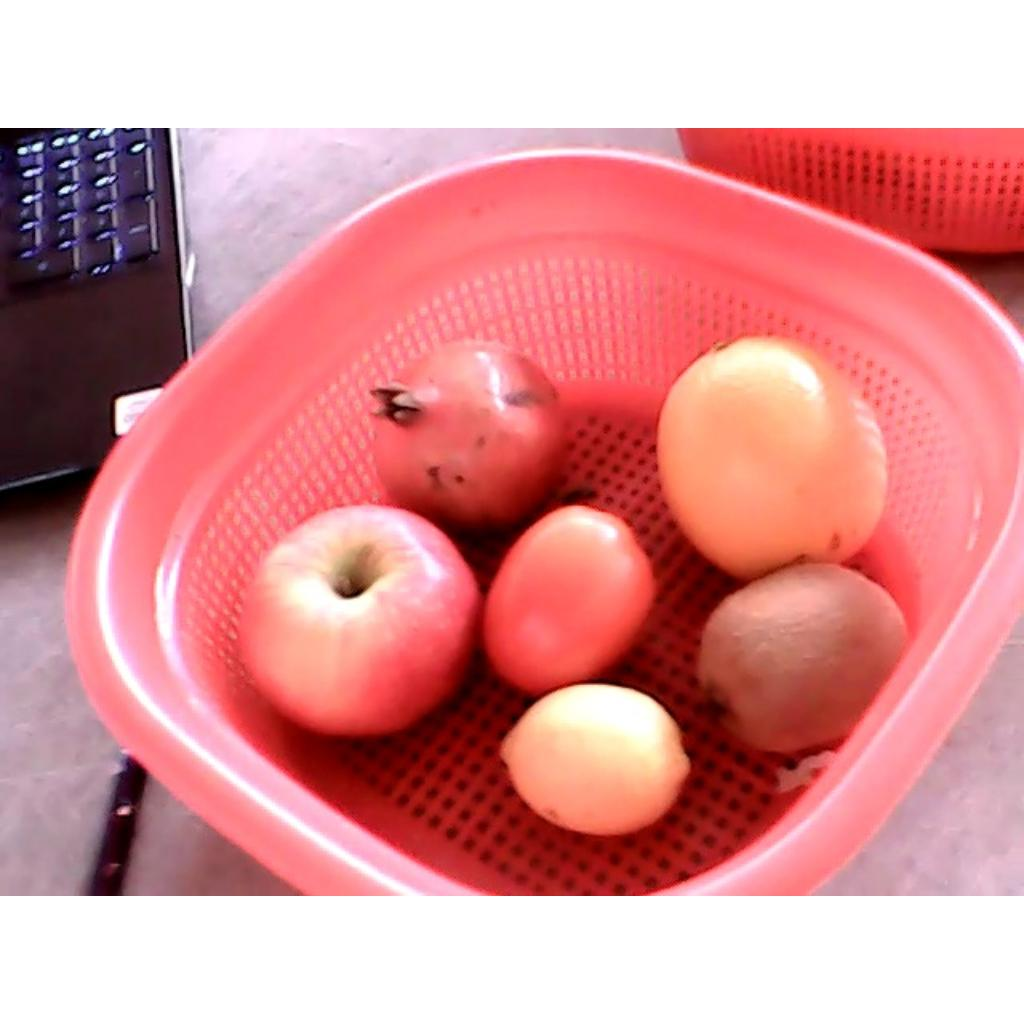apple: (236, 502, 476, 738)
kiwi: (691, 564, 909, 755)
lemon: (504, 683, 690, 834)
orange: (656, 333, 887, 577)
pomegranate: (365, 344, 564, 532)
tomato: (484, 505, 652, 691)
